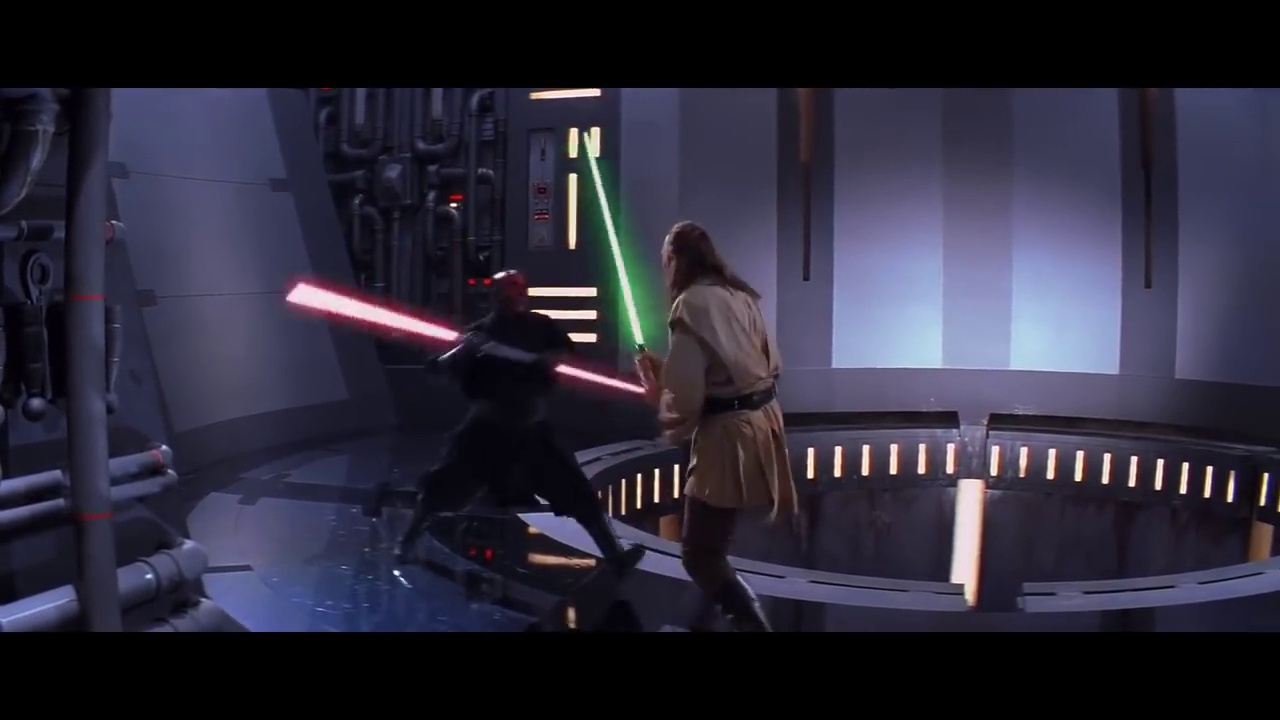lightsaber: (580, 121, 654, 381), (273, 280, 509, 354), (523, 358, 662, 398)
